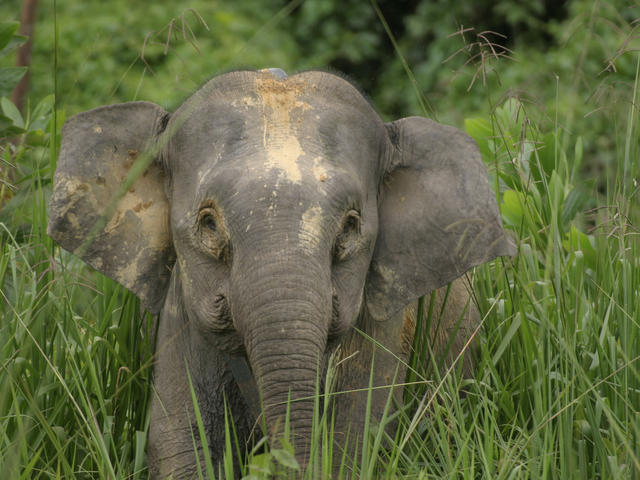elephant: (47, 62, 526, 480)
